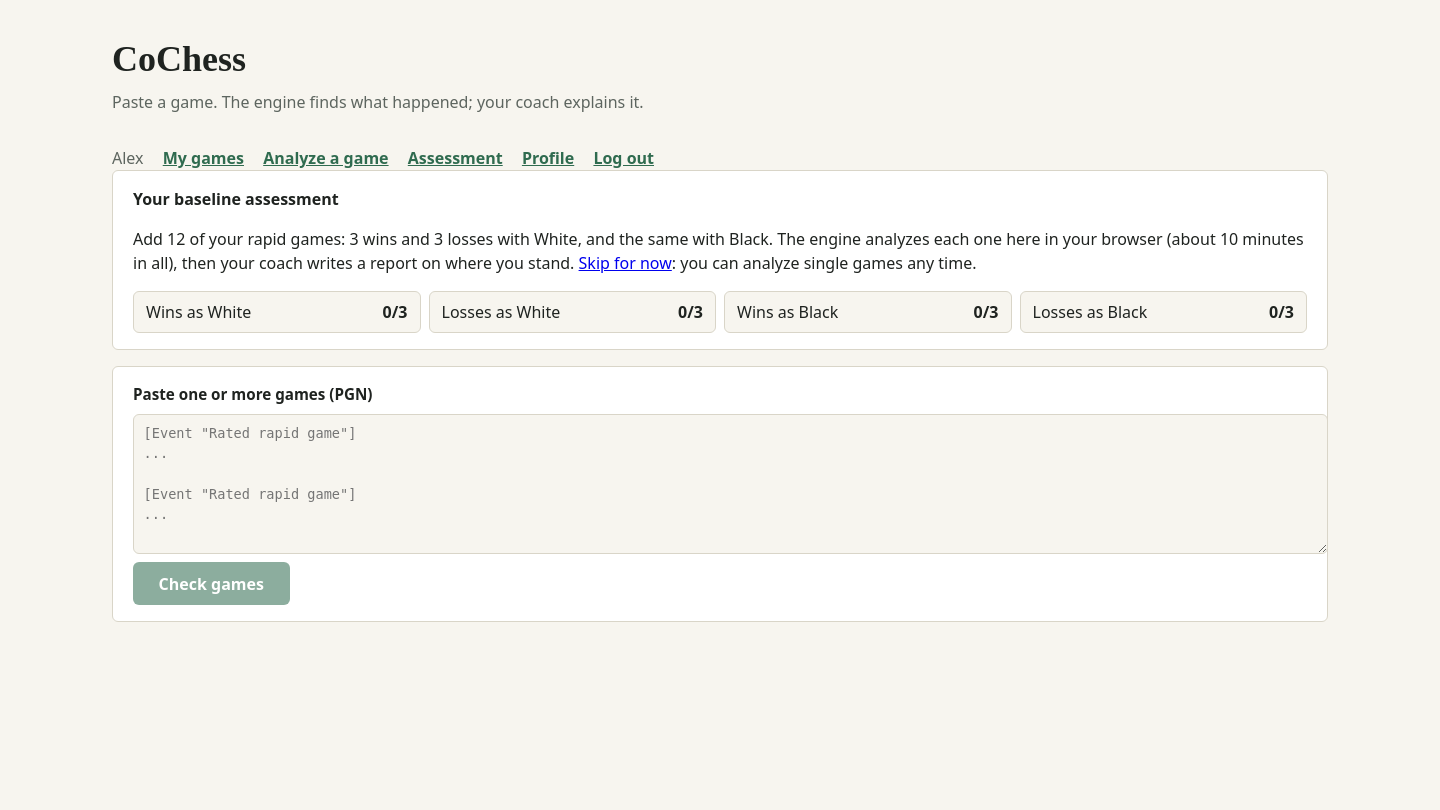
Scenario: adding games › the player can change the suggested color
This screenshot has width=1440, height=810.
Replace the text in the text box labelled "Paste one or more games (PGN)" with "a game". click: (731, 484)
box: [133,414,1328,554]
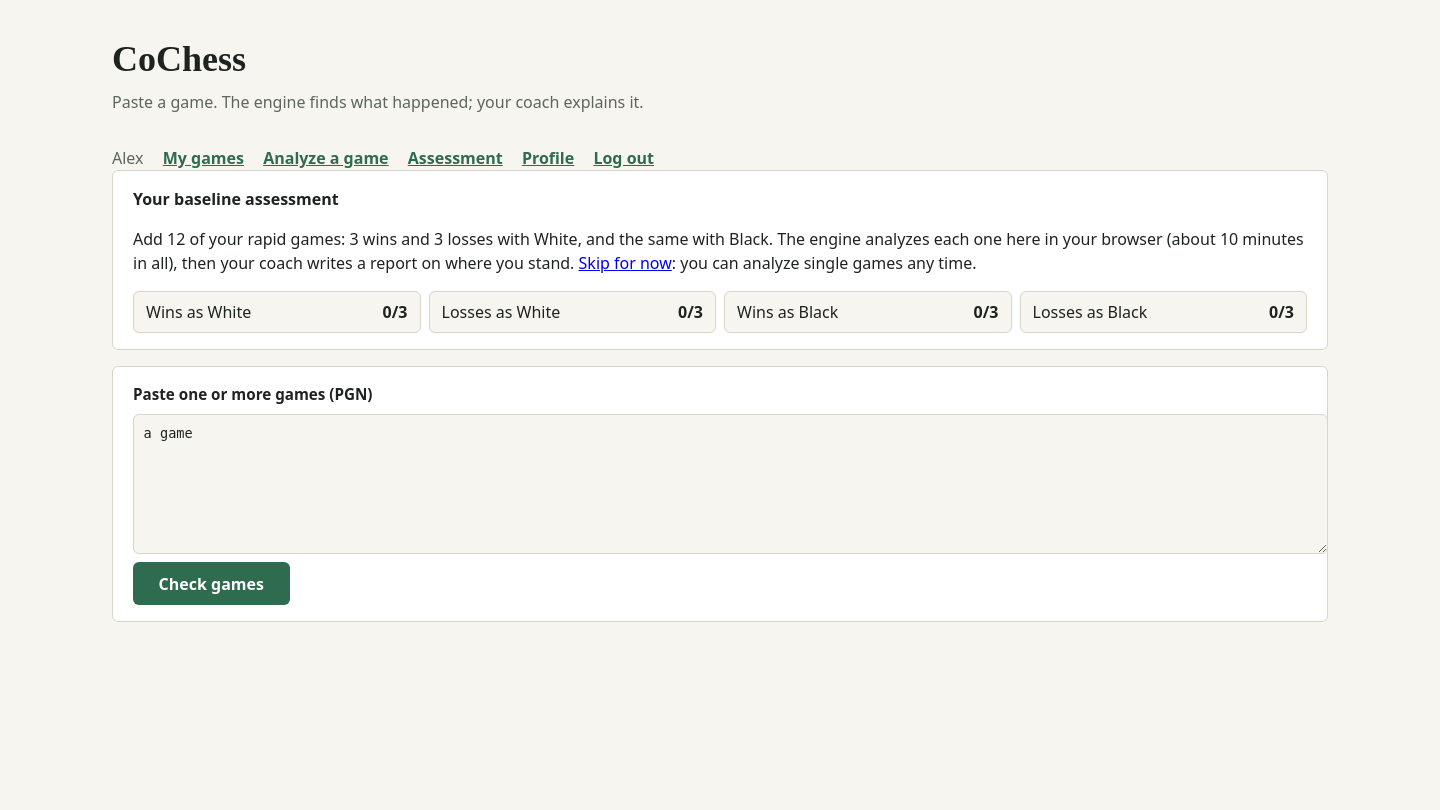
Click the button "Check games". click: (211, 584)
box: [133,562,290,605]
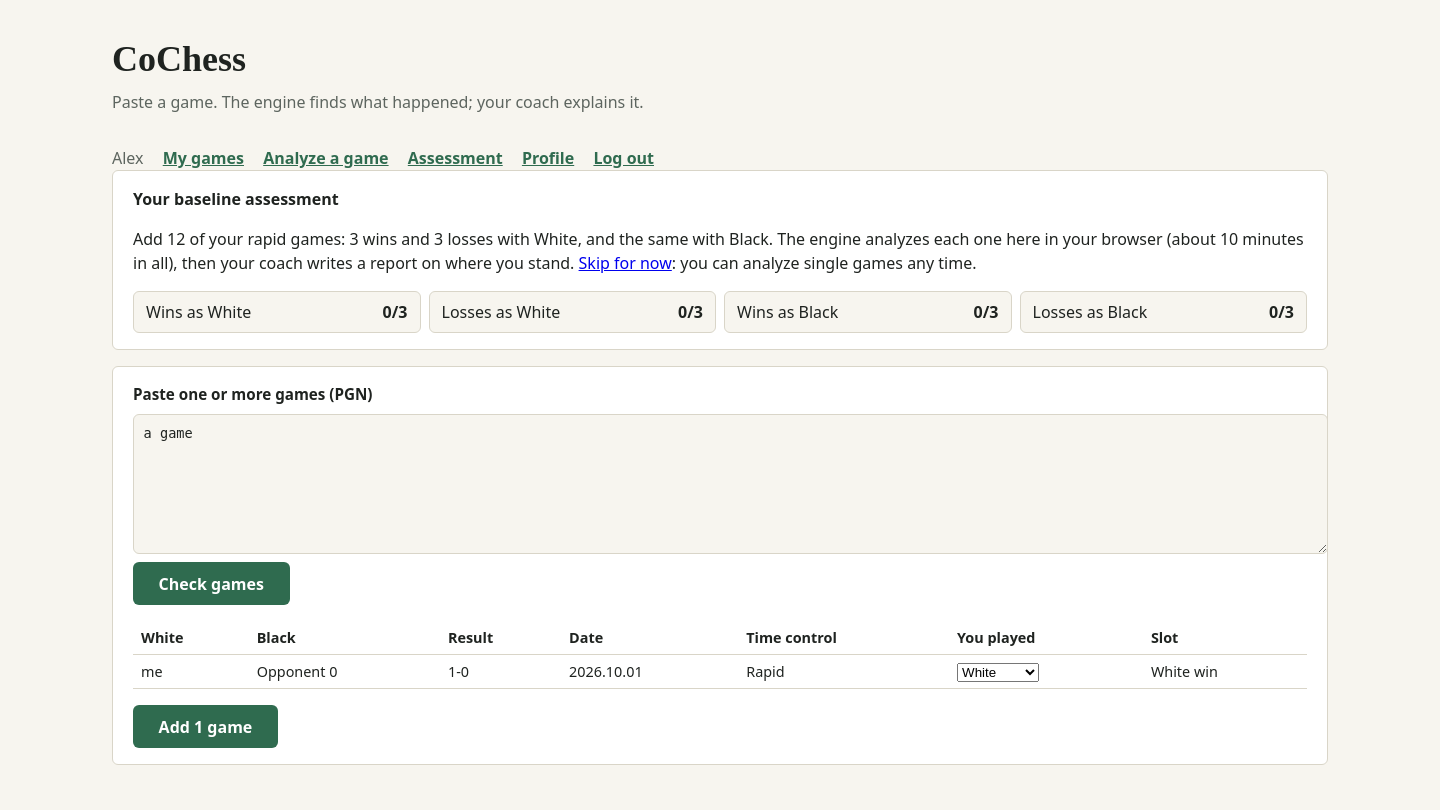
Select "Black" in the dropdown named "Your color in game 1". click: (998, 672)
box: [957,663,1039,682]
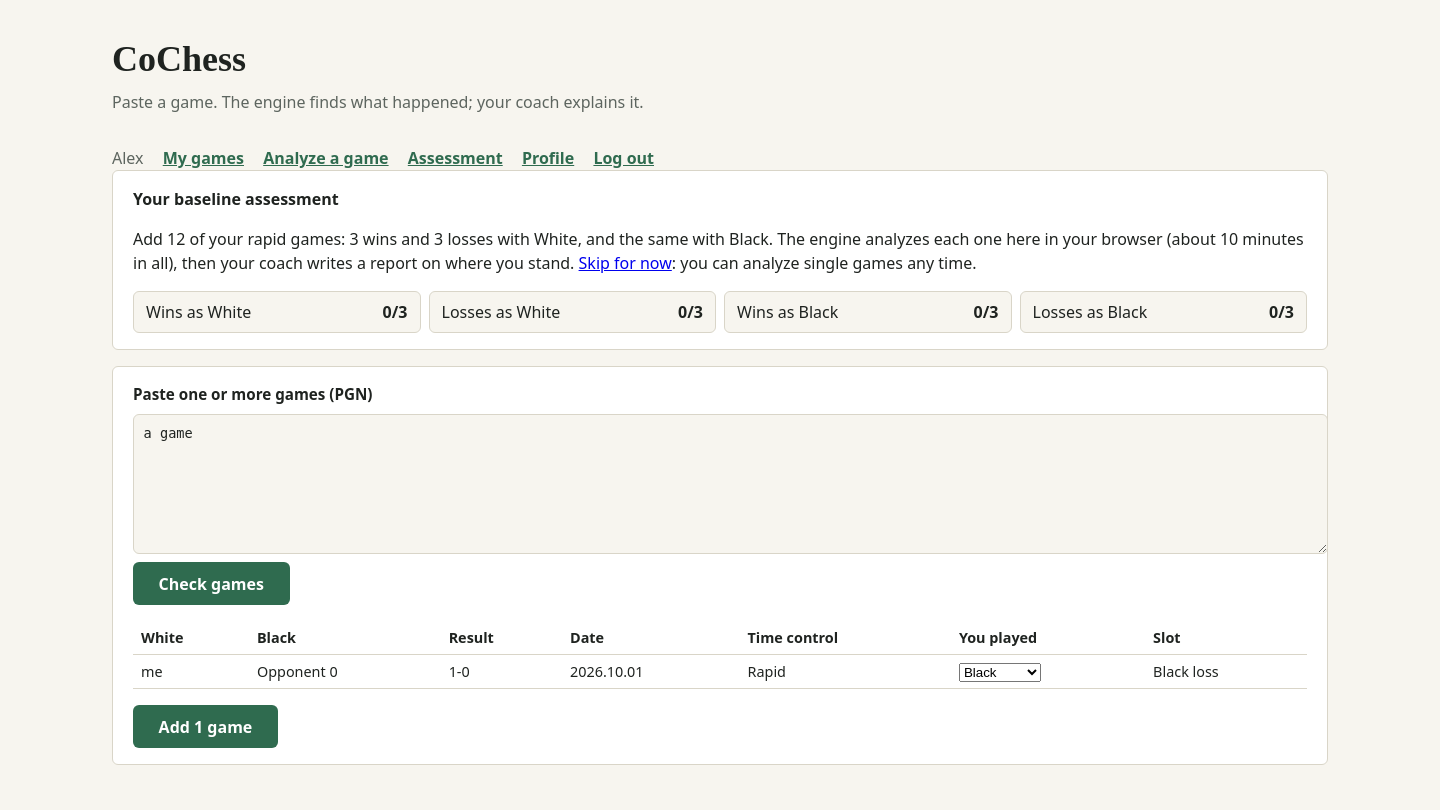
Expected: the text "Black loss" is shown, [1145,655,1307,688]
